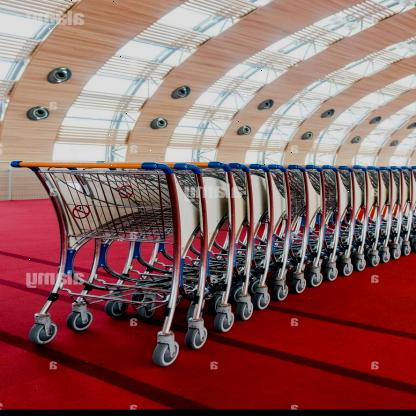airport-trolley: (7, 158, 196, 366), (72, 163, 214, 350), (111, 162, 246, 335), (113, 164, 269, 306), (128, 166, 288, 294), (174, 165, 306, 290), (197, 166, 325, 283), (226, 168, 338, 278), (252, 171, 353, 271), (270, 168, 365, 266), (288, 166, 381, 261), (299, 167, 401, 253), (292, 168, 390, 257), (341, 168, 416, 249), (340, 166, 416, 244), (350, 168, 416, 248), (336, 195, 412, 253)
